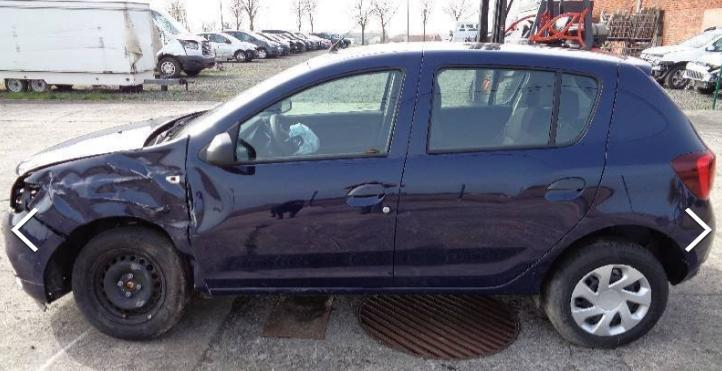Back-bumper: (680, 260, 699, 285)
Back-door: (393, 52, 619, 288)
Back-wheel: (541, 236, 669, 347)
Back-window: (427, 68, 557, 150), (609, 92, 667, 143), (556, 73, 597, 142)
Fender: (24, 136, 205, 282)
Front-bumper: (2, 211, 65, 303)
Front-door: (185, 51, 423, 288)
Front-wheel: (73, 226, 193, 339)
Front-window: (234, 70, 403, 161)
Headlight: (10, 180, 40, 214)
Hood: (17, 111, 198, 176)
Mirror: (201, 133, 232, 164)
Quarter-panel: (503, 128, 715, 286)
Rocker-panel: (195, 282, 540, 296)
Roof: (308, 43, 627, 69)
Tail-light: (673, 152, 714, 199)
Windshield: (173, 59, 310, 140)
